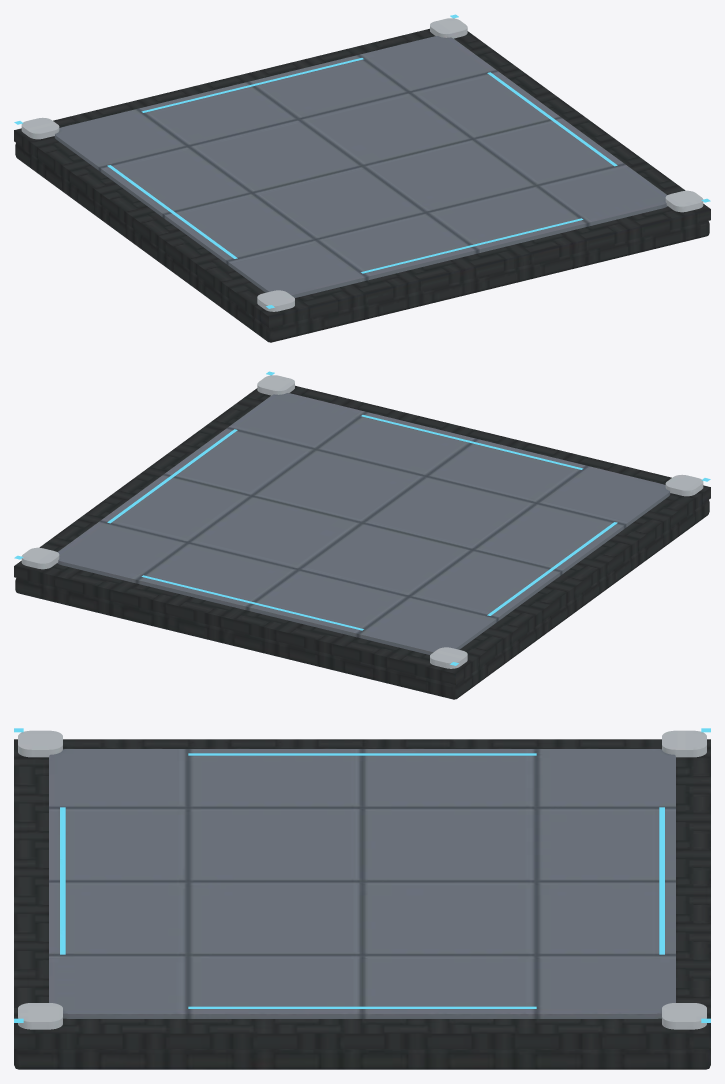
Rendered from hull_enterprise_hull_armored.glb.
The picture shows the model from 3 angles, top to bottom: view 1: azimuth 30°, elevation 25°; view 2: azimuth 150°, elevation 25°; view 3: azimuth 270°, elevation 25°; orthographic projection. The views are drawn at different scales.
Parts seen in each view (by area): view 1: te_hull_enterprise_hull_armored; view 2: te_hull_enterprise_hull_armored; view 3: te_hull_enterprise_hull_armored.
Boxes of the visible parts, <box> form: te_hull_enterprise_hull_armored: <box>14,14,710,342</box>; te_hull_enterprise_hull_armored: <box>14,371,710,699</box>; te_hull_enterprise_hull_armored: <box>14,728,710,1069</box>.
Size of the model in its own units: 1 by 0.0772 by 1.
Materials: 1 (1 with a texture image).
